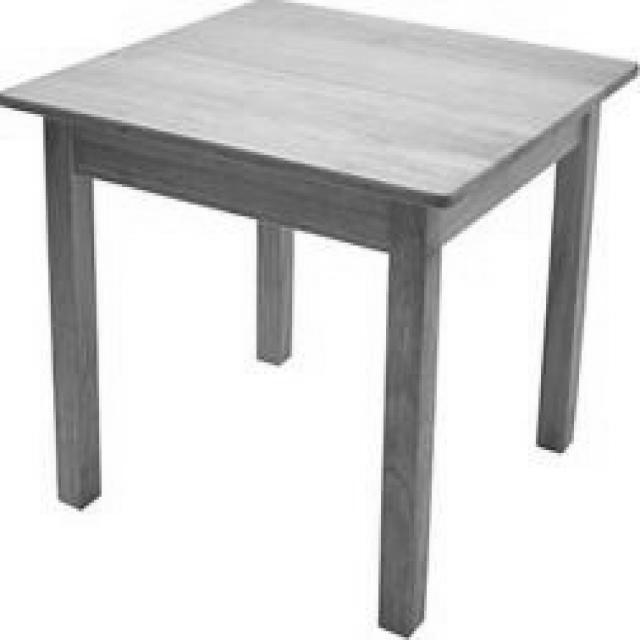table: (1, 2, 638, 636)
